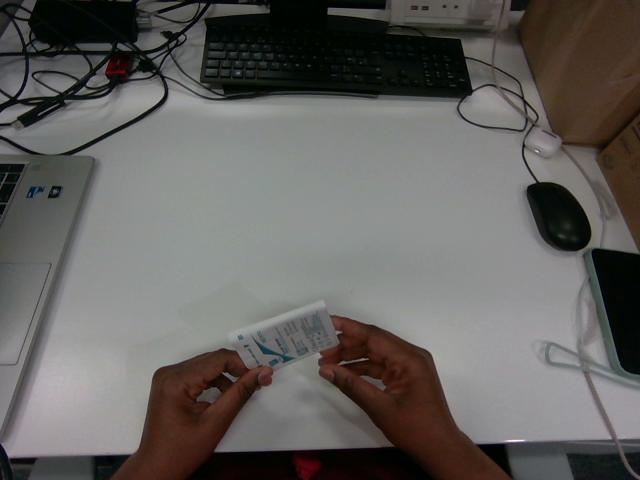gauze: (228, 301, 339, 370)
